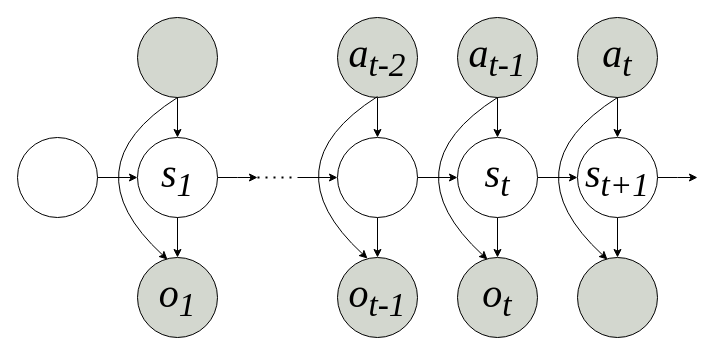
Some shapes in this 723 by 355 pixel diagram are drawn without their labels. The centre of each missing label's shape, as x and y in pixels:
"a 0" goes at point (177, 57).
"o t+1" goes at point (617, 297).
"s 0" goes at point (57, 177).
"s t-1" goes at point (377, 177).
